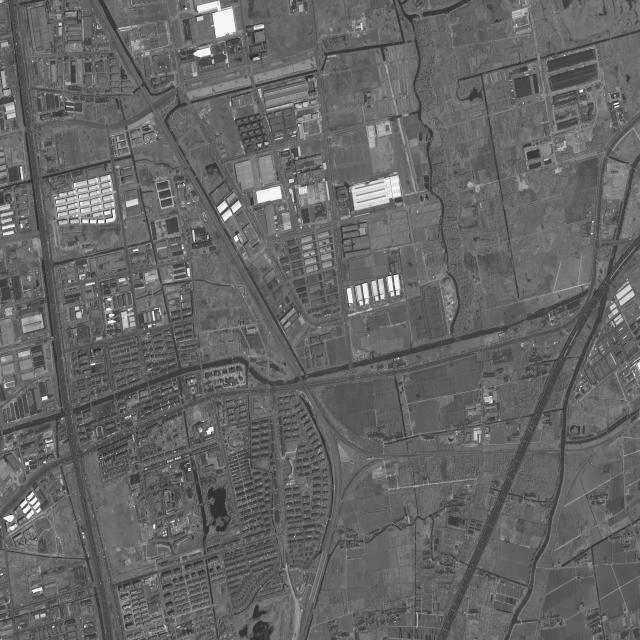storage-tank: (199, 427, 202, 433), (26, 224, 30, 228)
